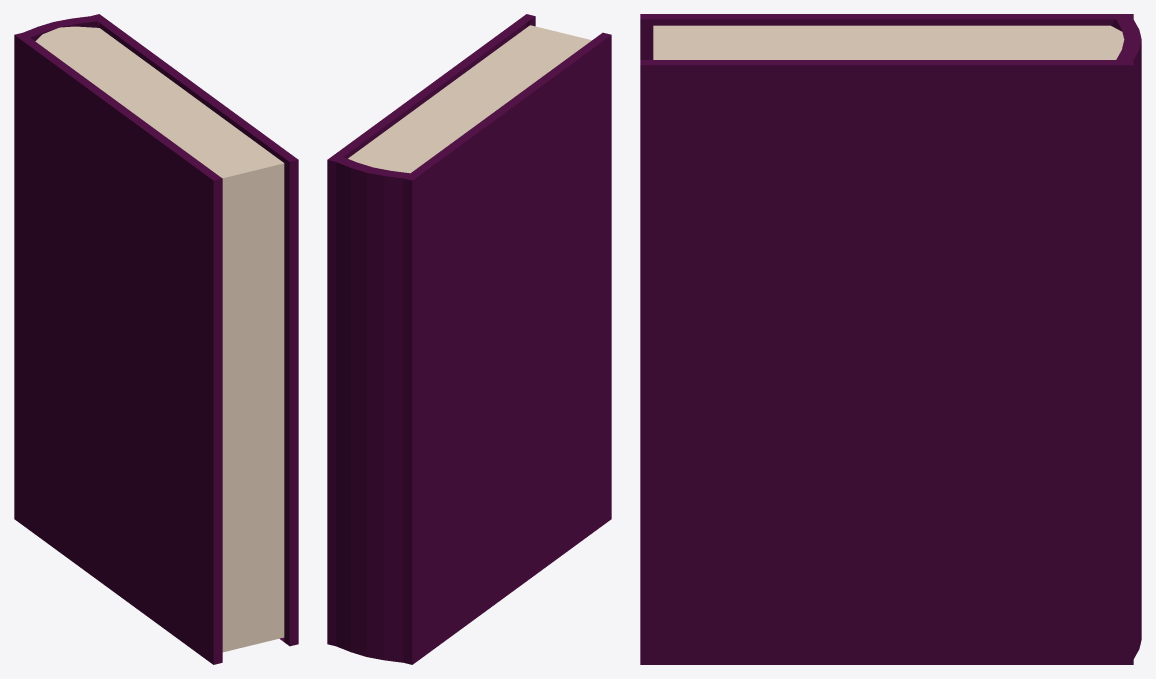
File: livro2.fbx
3 views of the same model, side by side, from view 1: azimuth 30°, elevation 25°; view 2: azimuth 150°, elevation 25°; view 3: azimuth 270°, elevation 25° (orthographic). The views are drawn at different scales.
Visible parts, largest first — view 1: Cube; view 2: Cube; view 3: Cube.
Part boxes in pixels (bbox=[...]): Cube: bbox=[14, 14, 298, 664]; Cube: bbox=[327, 14, 611, 664]; Cube: bbox=[640, 14, 1141, 664].
Size of the model in its own units: 32.4 by 176 by 133.
